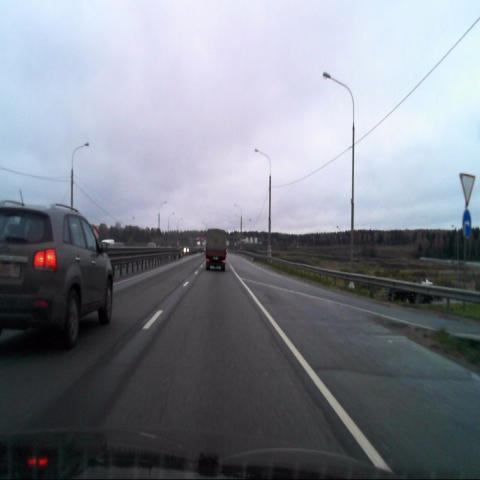4_1_2: (462, 210, 471, 238)
